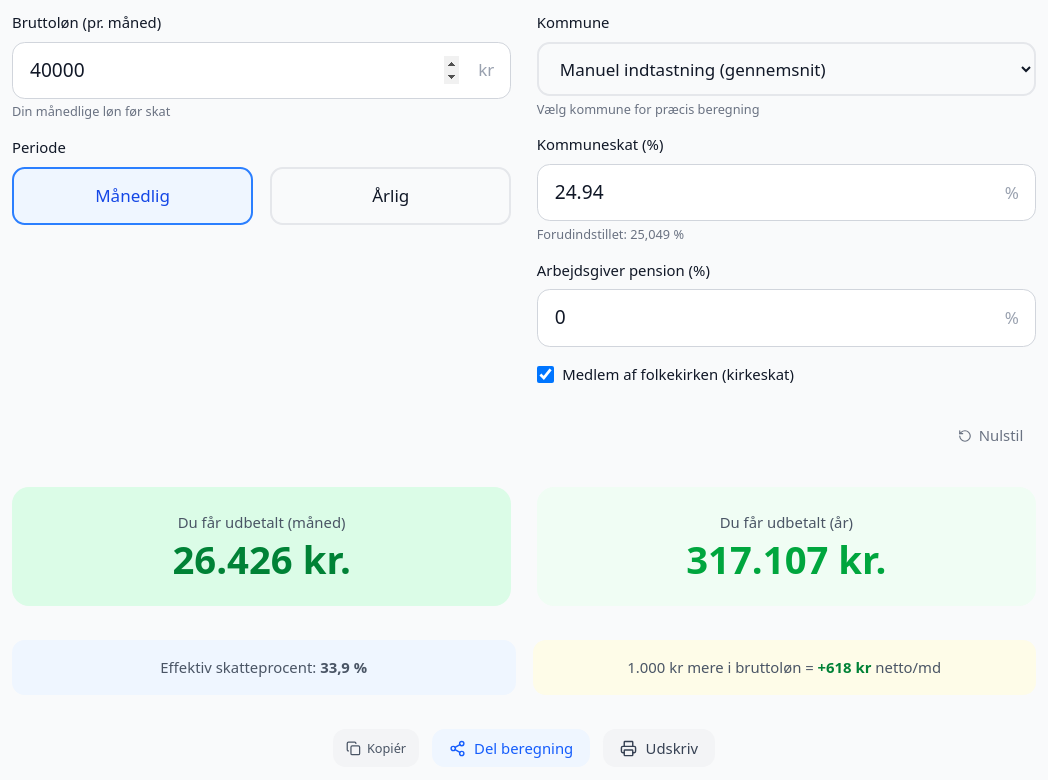
Test: decimal-komma — procenter i dansk og svensk tekst › /lon-efter-skat (effektiv skatteprocent) › da: kirkeskatlinjen under kommune-listen skriver komma
Select "Gentofte (22,8 %)" in the dropdown with id "loen-kommune". click: (786, 69)
box: [537, 42, 1036, 96]
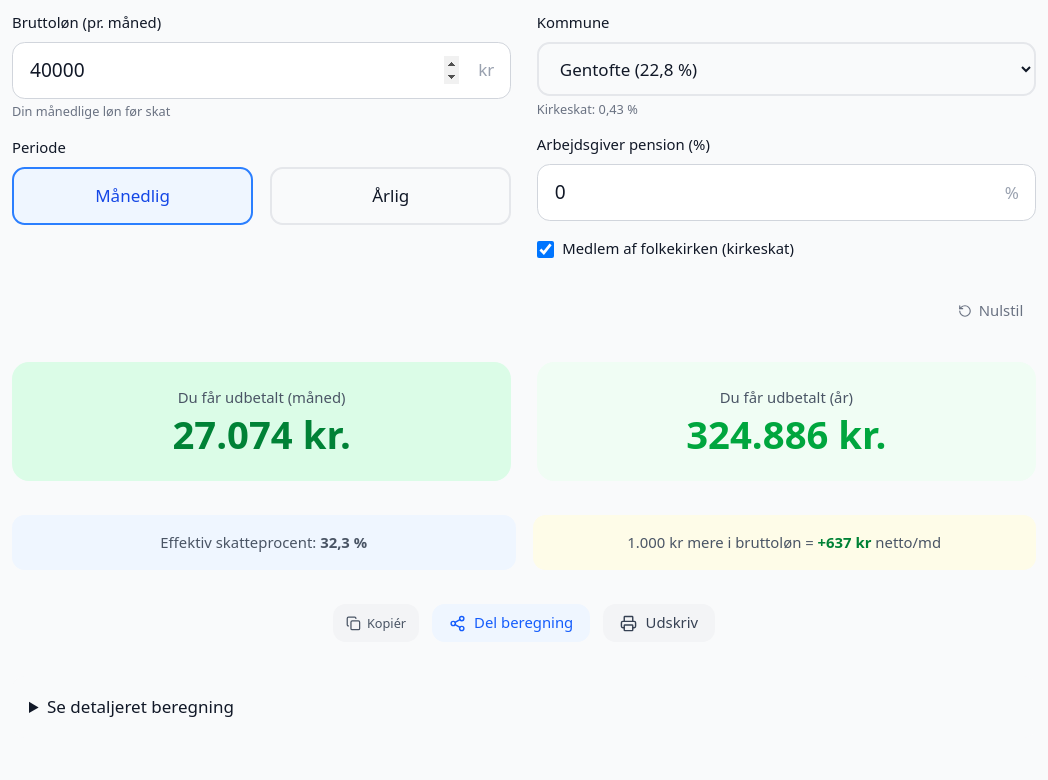
Expected: the text "Kirkeskat: 0,43 %" is shown, [537, 100, 638, 118]
